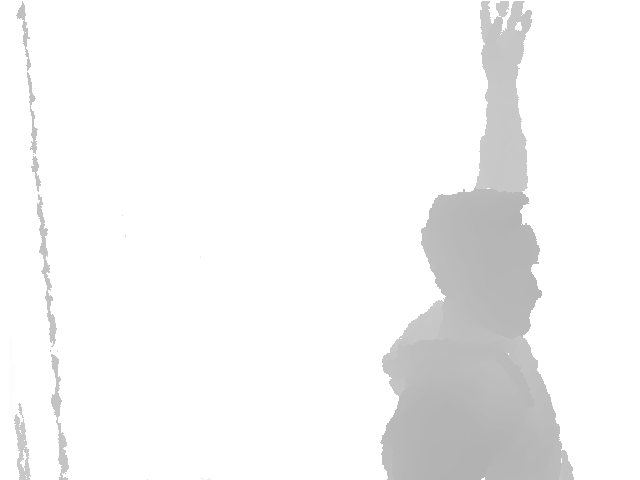hand: (478, 1, 533, 75)
head: (420, 189, 542, 338)
person: (380, 1, 573, 480)
